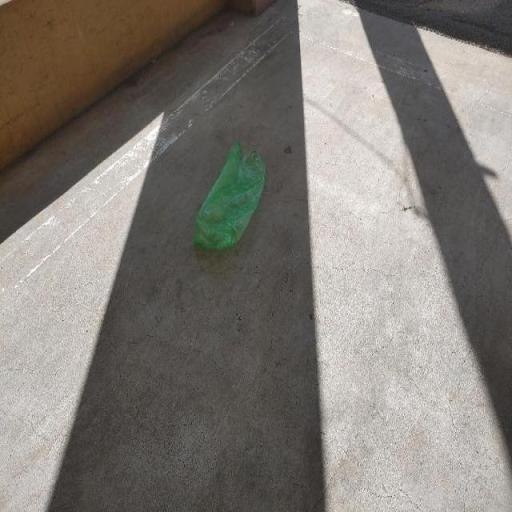plastic-bag: (191, 142, 266, 256)
